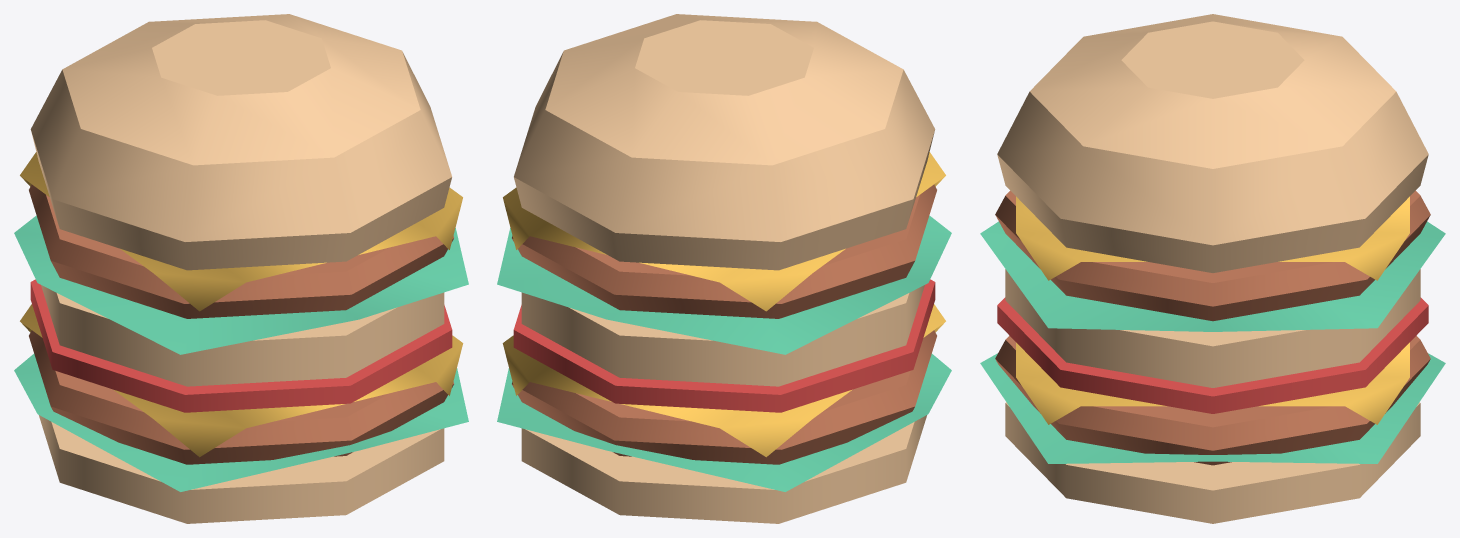
The model's file is burgerDouble.obj.
3 views of the same model, side by side, from view 1: azimuth 30°, elevation 25°; view 2: azimuth 150°, elevation 25°; view 3: azimuth 270°, elevation 25° (orthographic).
Visible parts, largest first — view 1: bunTop, bunBottom, patty, salad, cheese, tomato; view 2: bunTop, bunBottom, patty, salad, cheese, tomato; view 3: bunTop, bunBottom, patty, salad, tomato, cheese.
Part boxes in pixels (x1=…): bunTop: x1=30, y1=14, x2=451, y2=270; bunBottom: x1=39, y1=285, x2=444, y2=523; patty: x1=29, y1=184, x2=453, y2=464; salad: x1=14, y1=215, x2=468, y2=491; cheese: x1=20, y1=152, x2=463, y2=457; tomato: x1=30, y1=279, x2=452, y2=412; bunTop: x1=514, y1=14, x2=935, y2=270; bunBottom: x1=521, y1=285, x2=926, y2=523; patty: x1=512, y1=184, x2=936, y2=464; salad: x1=497, y1=215, x2=951, y2=491; cheese: x1=502, y1=152, x2=945, y2=457; tomato: x1=513, y1=279, x2=935, y2=412; bunTop: x1=997, y1=14, x2=1428, y2=272; bunBottom: x1=1005, y1=269, x2=1420, y2=523; patty: x1=995, y1=190, x2=1430, y2=465; salad: x1=980, y1=221, x2=1445, y2=463; tomato: x1=997, y1=297, x2=1428, y2=413; cheese: x1=1016, y1=196, x2=1409, y2=424.
Size of the model in its own units: 0.4041 by 0.36 by 0.4041.
